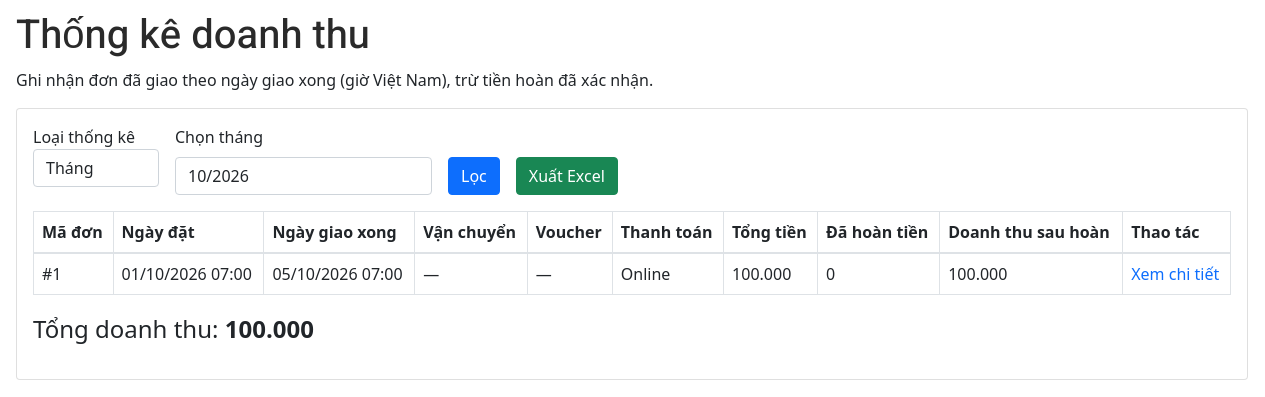
Scenario: invalid day selection clears old report and prevents exporting stale totals
The image size is (1265, 397).
Expected: the text "#1" is shown, [34,253,113,294]
Expected: the button "Xuất Excel" is enabled, [516,157,618,195]
Step 1. Select "Khoảng ngày" in the dropdown labelled "Loại thống kê" → (96, 168), box [33,149,159,187]
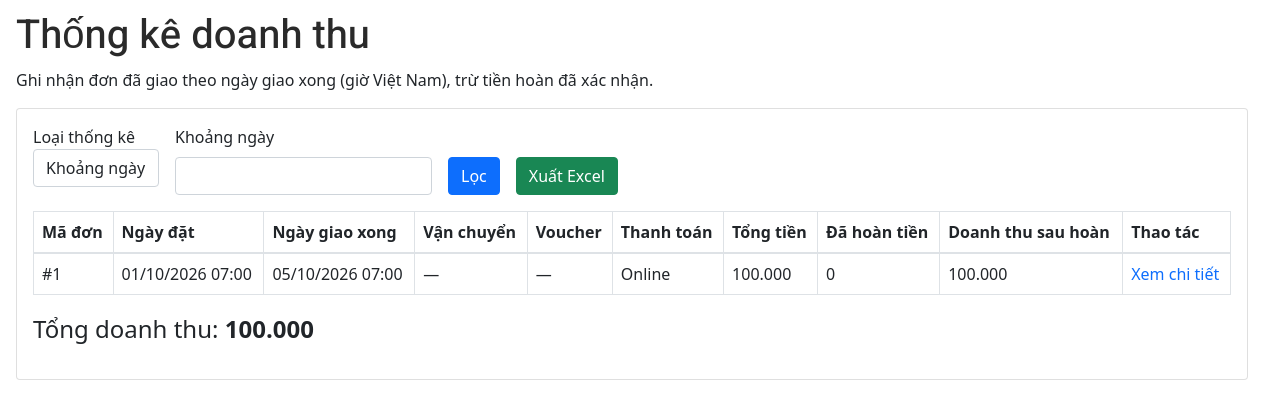
Step 2. Click the button "Lọc" → click(474, 176), box [448,157,500,195]
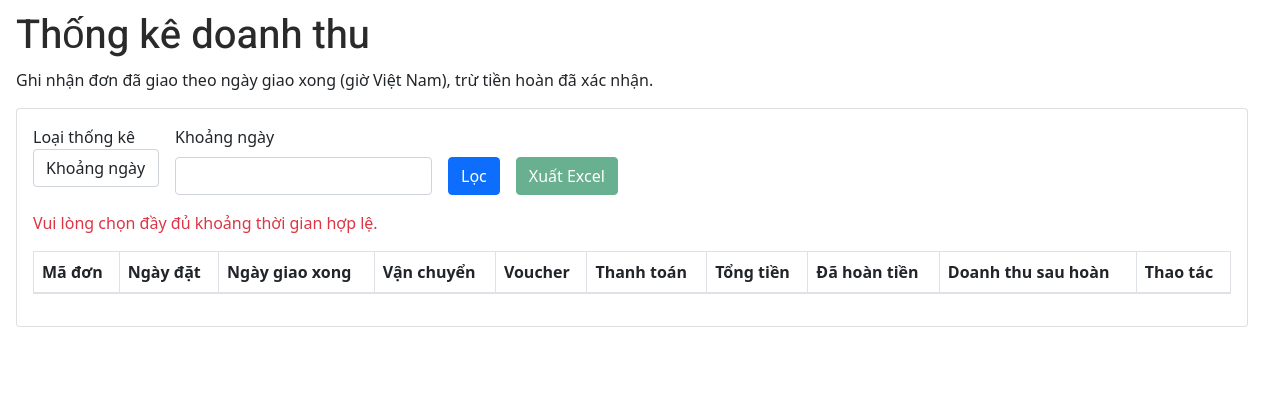
Now the message shows "đầy đủ", box [33,212,378,234]
Now the text "#1" is gone
Now the button "Xuất Excel" is disabled, box [516,157,618,195]
